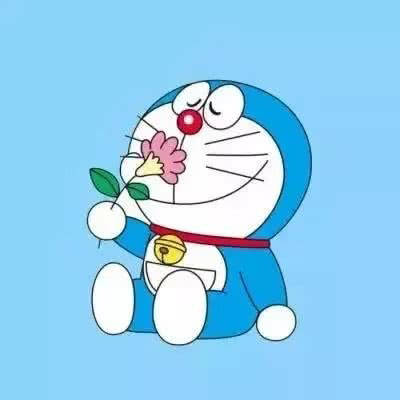Doraemon: (76, 62, 316, 347)
